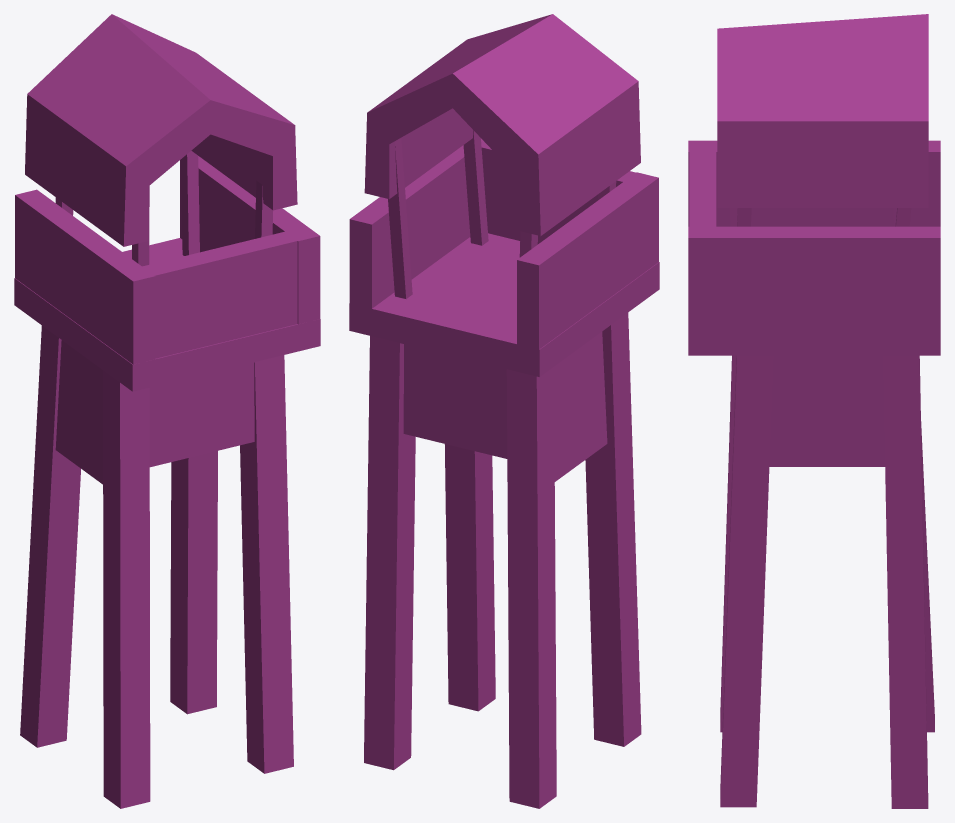
File: SM_Bld_Tower_02_Collision.fbx
3 renders of one model, left to right at view 1: azimuth 30°, elevation 25°; view 2: azimuth 150°, elevation 25°; view 3: azimuth 270°, elevation 25°, orthographic. The views are drawn at different scales.
Visible parts, largest first — view 1: SM_Bld_Tower_02_Collision; view 2: SM_Bld_Tower_02_Collision; view 3: SM_Bld_Tower_02_Collision.
Boxes of the visible parts, bbox=[...] form: SM_Bld_Tower_02_Collision: bbox=[14, 14, 320, 808]; SM_Bld_Tower_02_Collision: bbox=[349, 14, 659, 808]; SM_Bld_Tower_02_Collision: bbox=[688, 14, 940, 808].
Bounding box in the file's own units: 232 × 828 × 253.
